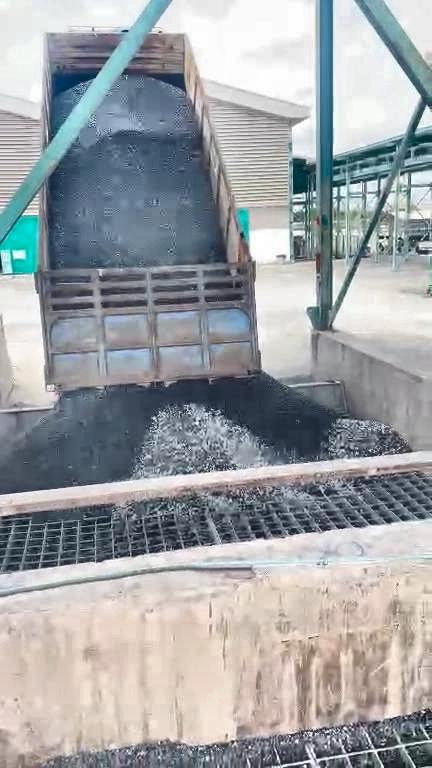gravel: (1, 373, 411, 494), (48, 74, 226, 267), (43, 710, 432, 767), (114, 479, 349, 522), (52, 79, 92, 137)
